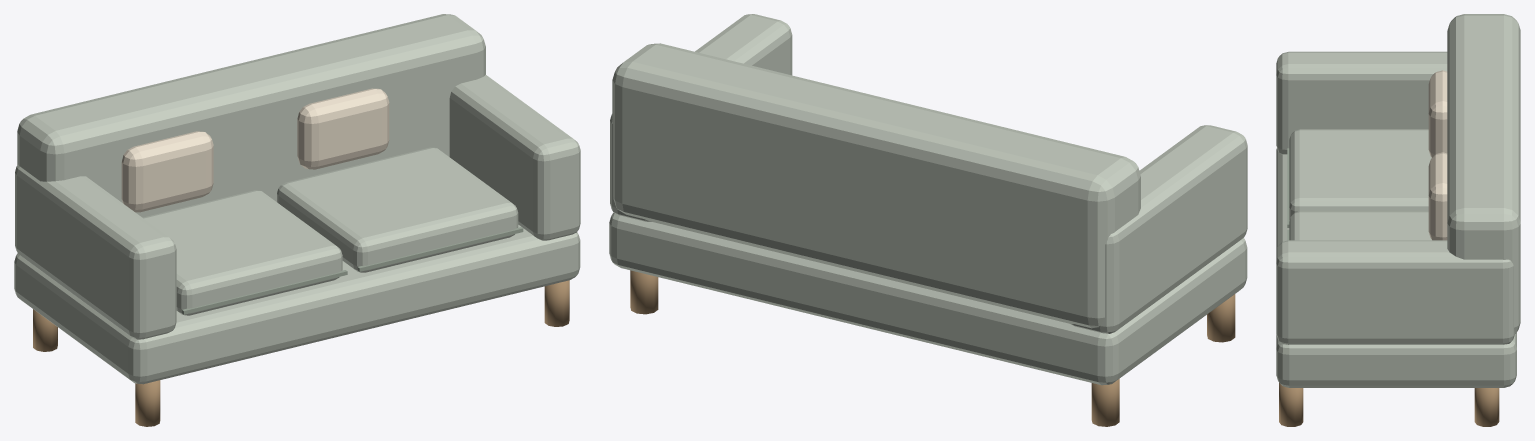
Rendered from sofa.glb.
3 views of the same model, side by side, from view 1: azimuth 30°, elevation 25°; view 2: azimuth 150°, elevation 25°; view 3: azimuth 270°, elevation 25° (orthographic). The views are drawn at different scales.
Visible parts, largest first — view 1: sofa; view 2: sofa; view 3: sofa.
Boxes of the visible parts, left/top/right/bottom form: sofa: left=14, top=14, right=580, bottom=426; sofa: left=609, top=14, right=1247, bottom=426; sofa: left=1276, top=14, right=1520, bottom=426.
Bounding box in the file's own units: 2.64 × 1.26 × 1.3.
